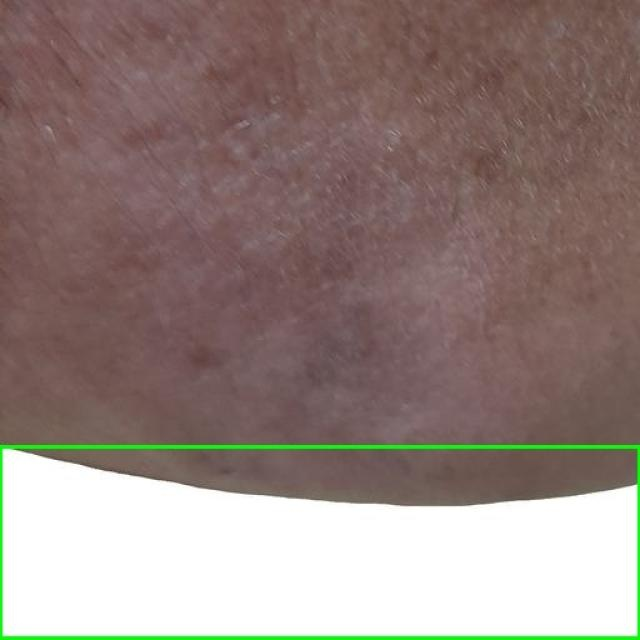Tinea Corporis: (0, 448, 639, 639)
